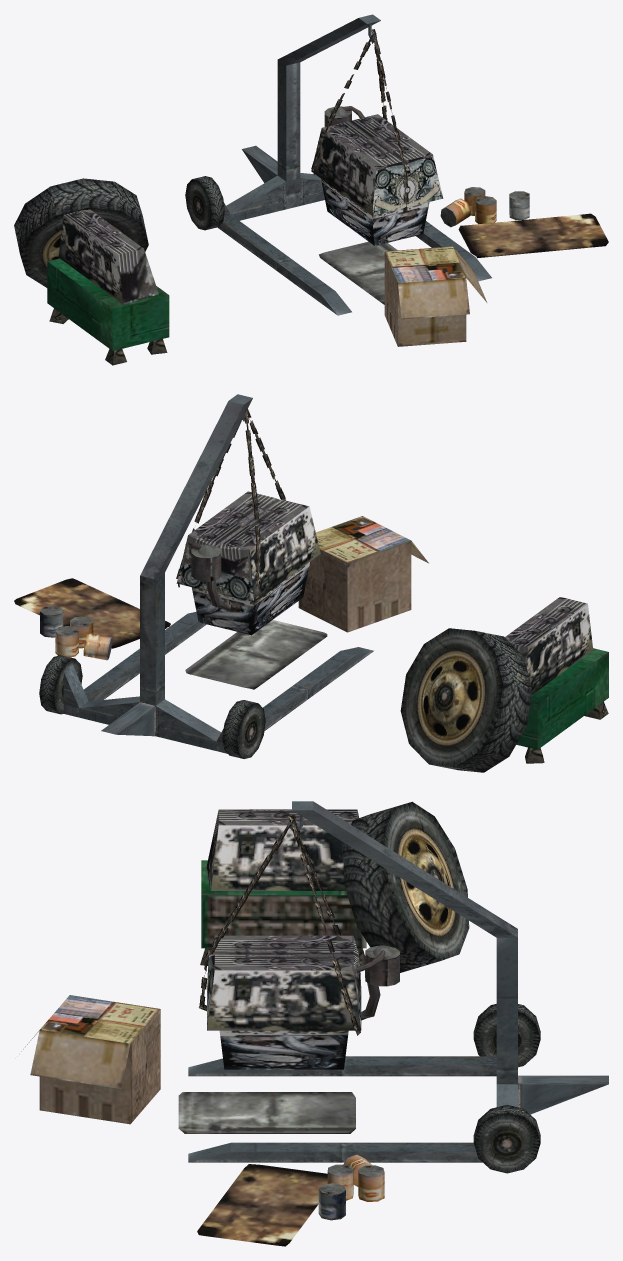
Rendered from gtools03.glb.
The picture shows the model from 3 angles, top to bottom: view 1: azimuth 30°, elevation 25°; view 2: azimuth 150°, elevation 25°; view 3: azimuth 270°, elevation 25°; orthographic projection. The views are drawn at different scales.
Visible parts, largest first — view 1: _gtools03; view 2: _gtools03; view 3: _gtools03.
Boxes of the visible parts, bbox=[...] form: _gtools03: bbox=[14, 14, 608, 365]; _gtools03: bbox=[14, 394, 608, 772]; _gtools03: bbox=[21, 801, 608, 1246].
Size of the model in its own units: 3.63 by 1.65 by 2.84.
2 materials, 2 textured.
